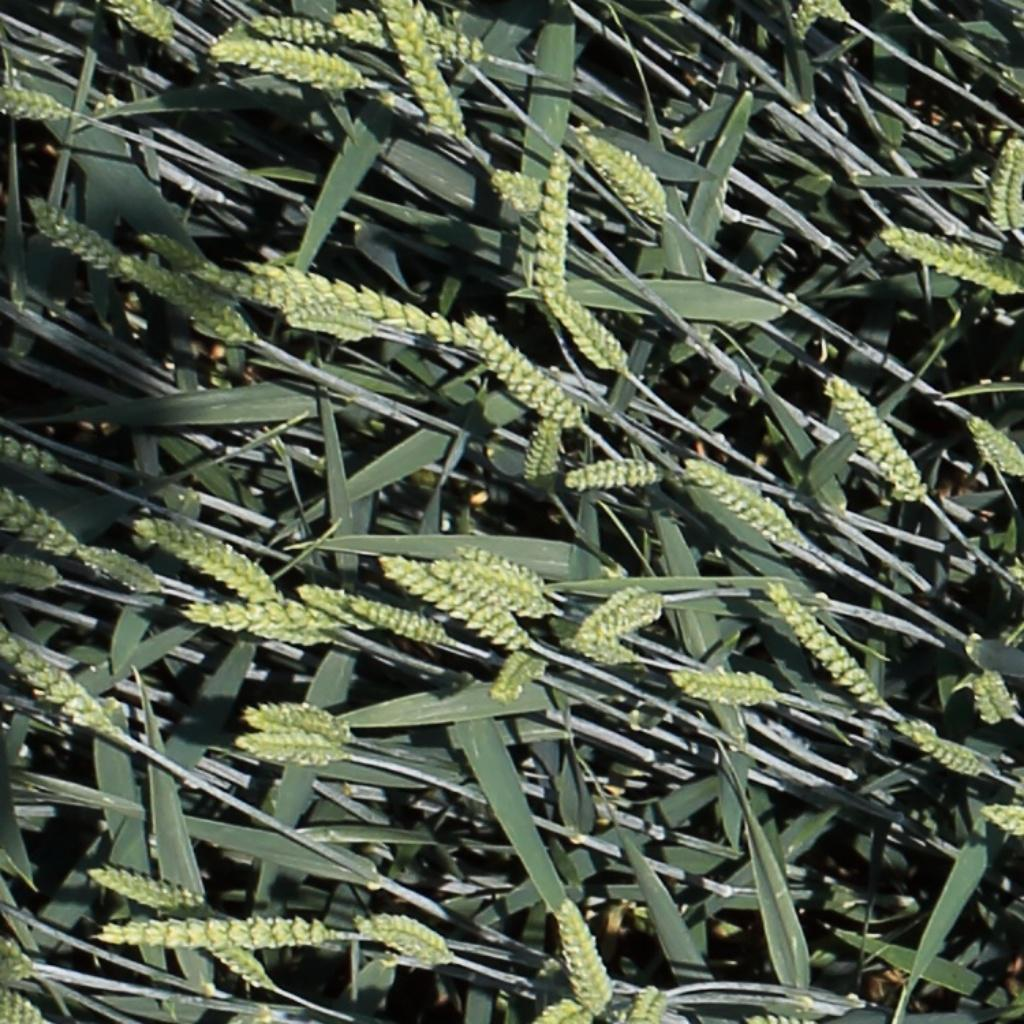0-0: (765, 580, 886, 709), (465, 312, 584, 430), (826, 371, 928, 503), (137, 516, 277, 603), (383, 562, 527, 645), (101, 906, 330, 957), (385, 4, 466, 141), (211, 28, 366, 94), (129, 258, 251, 341), (20, 642, 120, 743), (688, 458, 804, 544), (335, 282, 479, 349), (887, 226, 1021, 294), (202, 264, 362, 319), (431, 555, 559, 620), (580, 126, 669, 219), (188, 598, 335, 654), (27, 196, 122, 270), (548, 288, 628, 374), (346, 591, 459, 651), (557, 894, 611, 1018), (459, 535, 572, 589), (539, 146, 575, 308), (15, 473, 85, 555), (292, 575, 372, 637), (199, 927, 273, 992), (87, 869, 203, 910), (245, 694, 350, 738), (405, 4, 484, 61), (902, 724, 985, 778), (965, 409, 1024, 481), (76, 544, 161, 592), (986, 128, 1024, 235), (569, 455, 665, 497), (578, 575, 648, 627), (517, 409, 563, 488), (361, 922, 449, 963), (558, 625, 638, 666), (591, 593, 663, 638), (490, 647, 543, 708), (14, 430, 67, 489), (613, 978, 679, 1024), (675, 673, 775, 701), (974, 666, 1017, 730), (114, 1, 176, 45), (237, 737, 337, 764), (0, 79, 68, 118), (288, 307, 376, 337), (730, 999, 830, 1024), (252, 15, 341, 43), (0, 925, 36, 989), (334, 13, 394, 49), (492, 169, 544, 210), (795, 0, 842, 44), (0, 989, 44, 1023), (0, 561, 61, 585), (540, 998, 591, 1024), (981, 806, 1024, 834)
